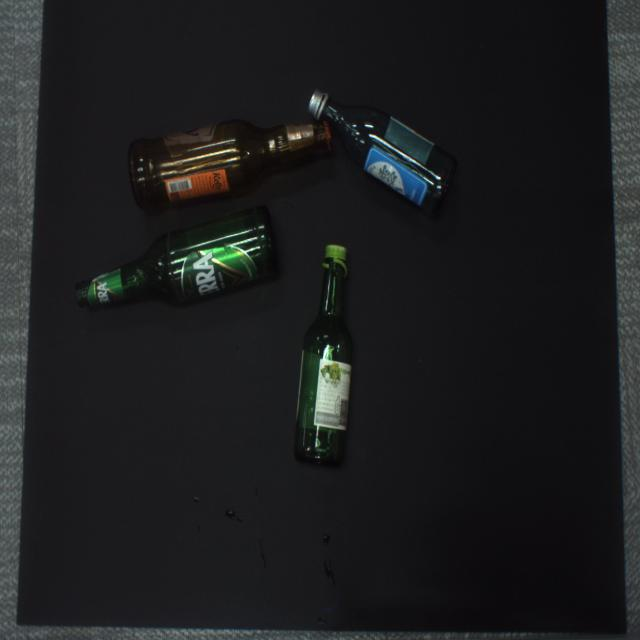beer-bottle: (76, 206, 275, 308), (128, 121, 331, 211)
soju-bottle: (308, 90, 455, 212), (294, 247, 352, 466)
